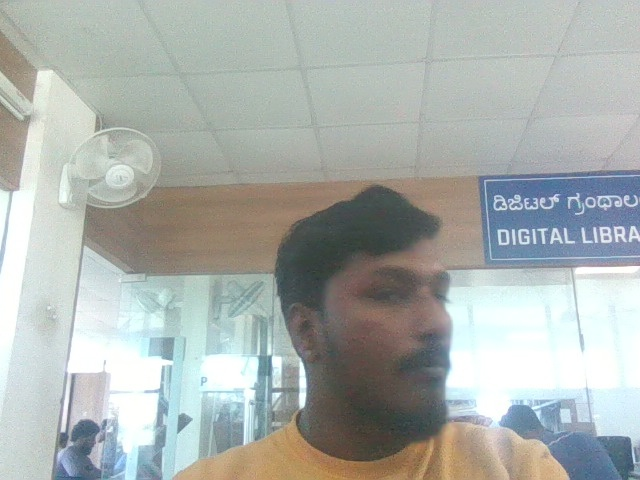real: (301, 169, 477, 418)
